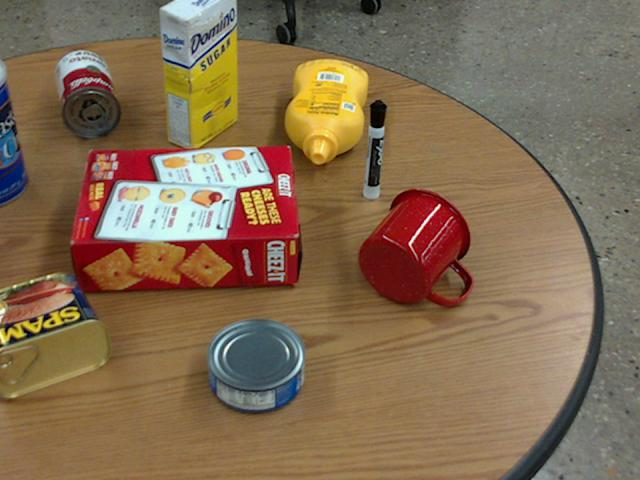cracker_box: (73, 146, 299, 291)
large_marker: (364, 99, 386, 198)
master_chef_can: (0, 59, 28, 205)
mug: (359, 187, 473, 303)
mustard_bottle: (285, 60, 368, 163)
potted_meat_can: (0, 270, 108, 396)
sugar_box: (160, 0, 237, 150)
tomato_soup_can: (56, 51, 120, 137)
tuna_fish_can: (205, 318, 303, 412)
